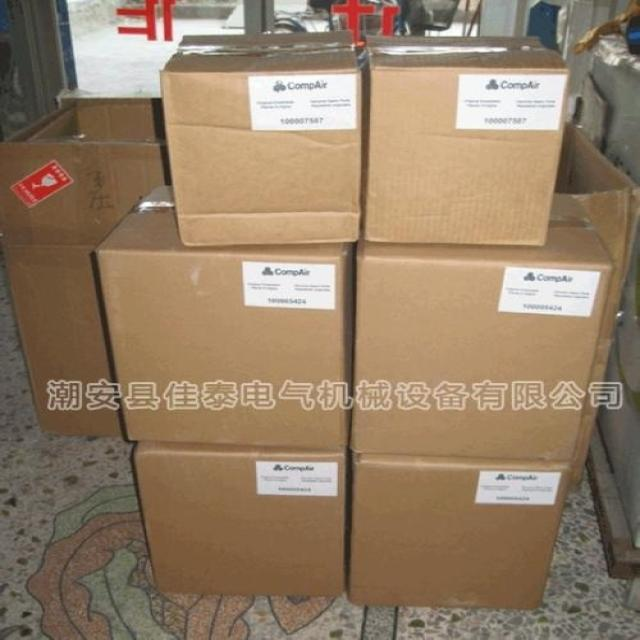box: (348, 193, 613, 461), (91, 184, 356, 451), (0, 91, 166, 436), (354, 35, 571, 247), (161, 30, 362, 249), (348, 455, 570, 611), (133, 443, 348, 597), (561, 124, 639, 490)
